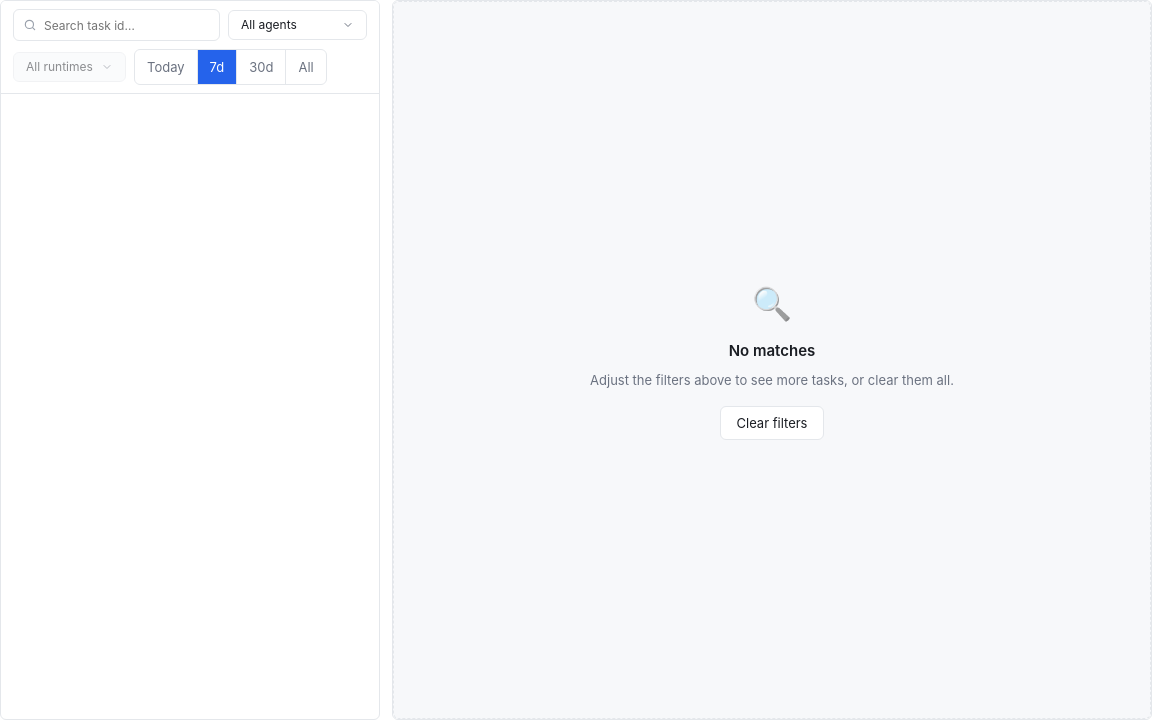
Test: Tasks page — state matrix › Stale window: a populated workspace with all rows outside the default window resolves to No-match, and Clear filters (→ range=all) recovers them
Note: Clear filters widens range to "all" → no createdSince → rows return.
Click the button with test id "tasks-empty-nomatch-cta" at (772, 423), box [720, 406, 824, 440]
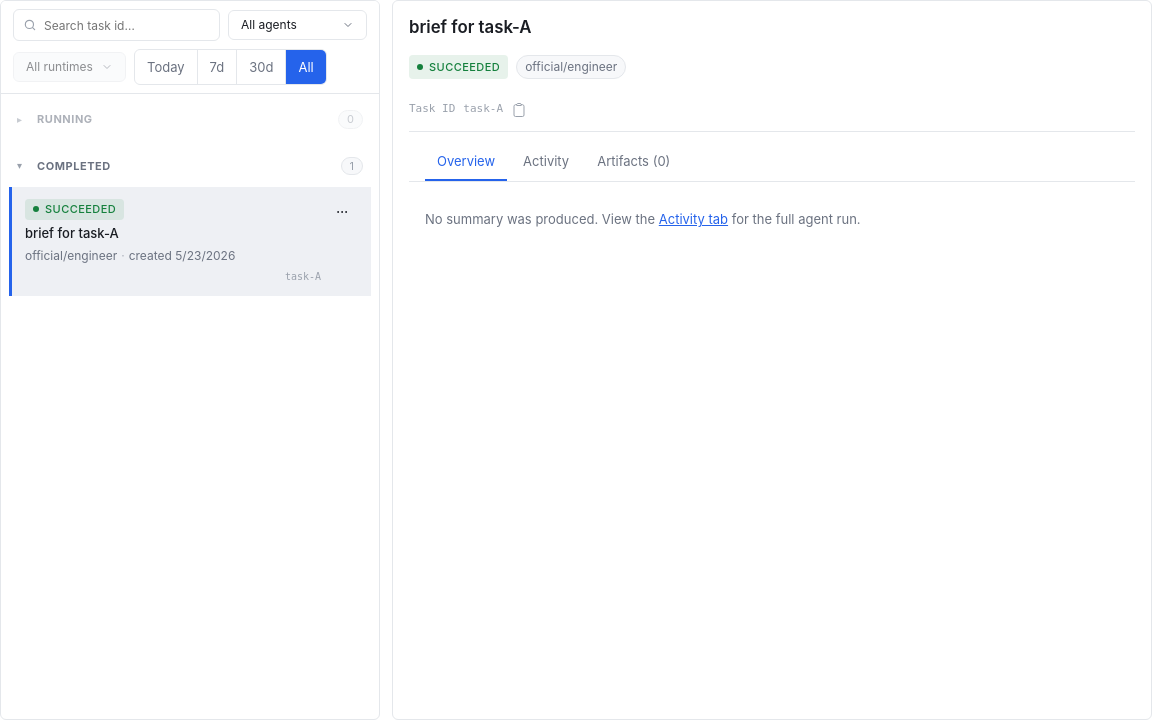
Expected: the message with test id "tasks-empty-nomatch" is gone
